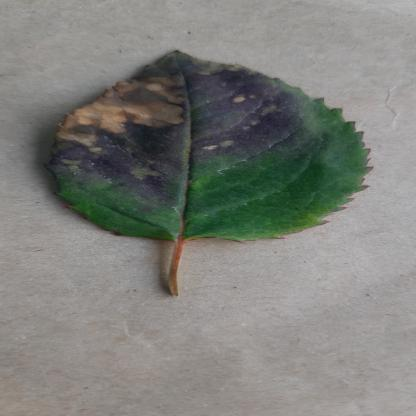powdery-mildew: (35, 50, 379, 242)
